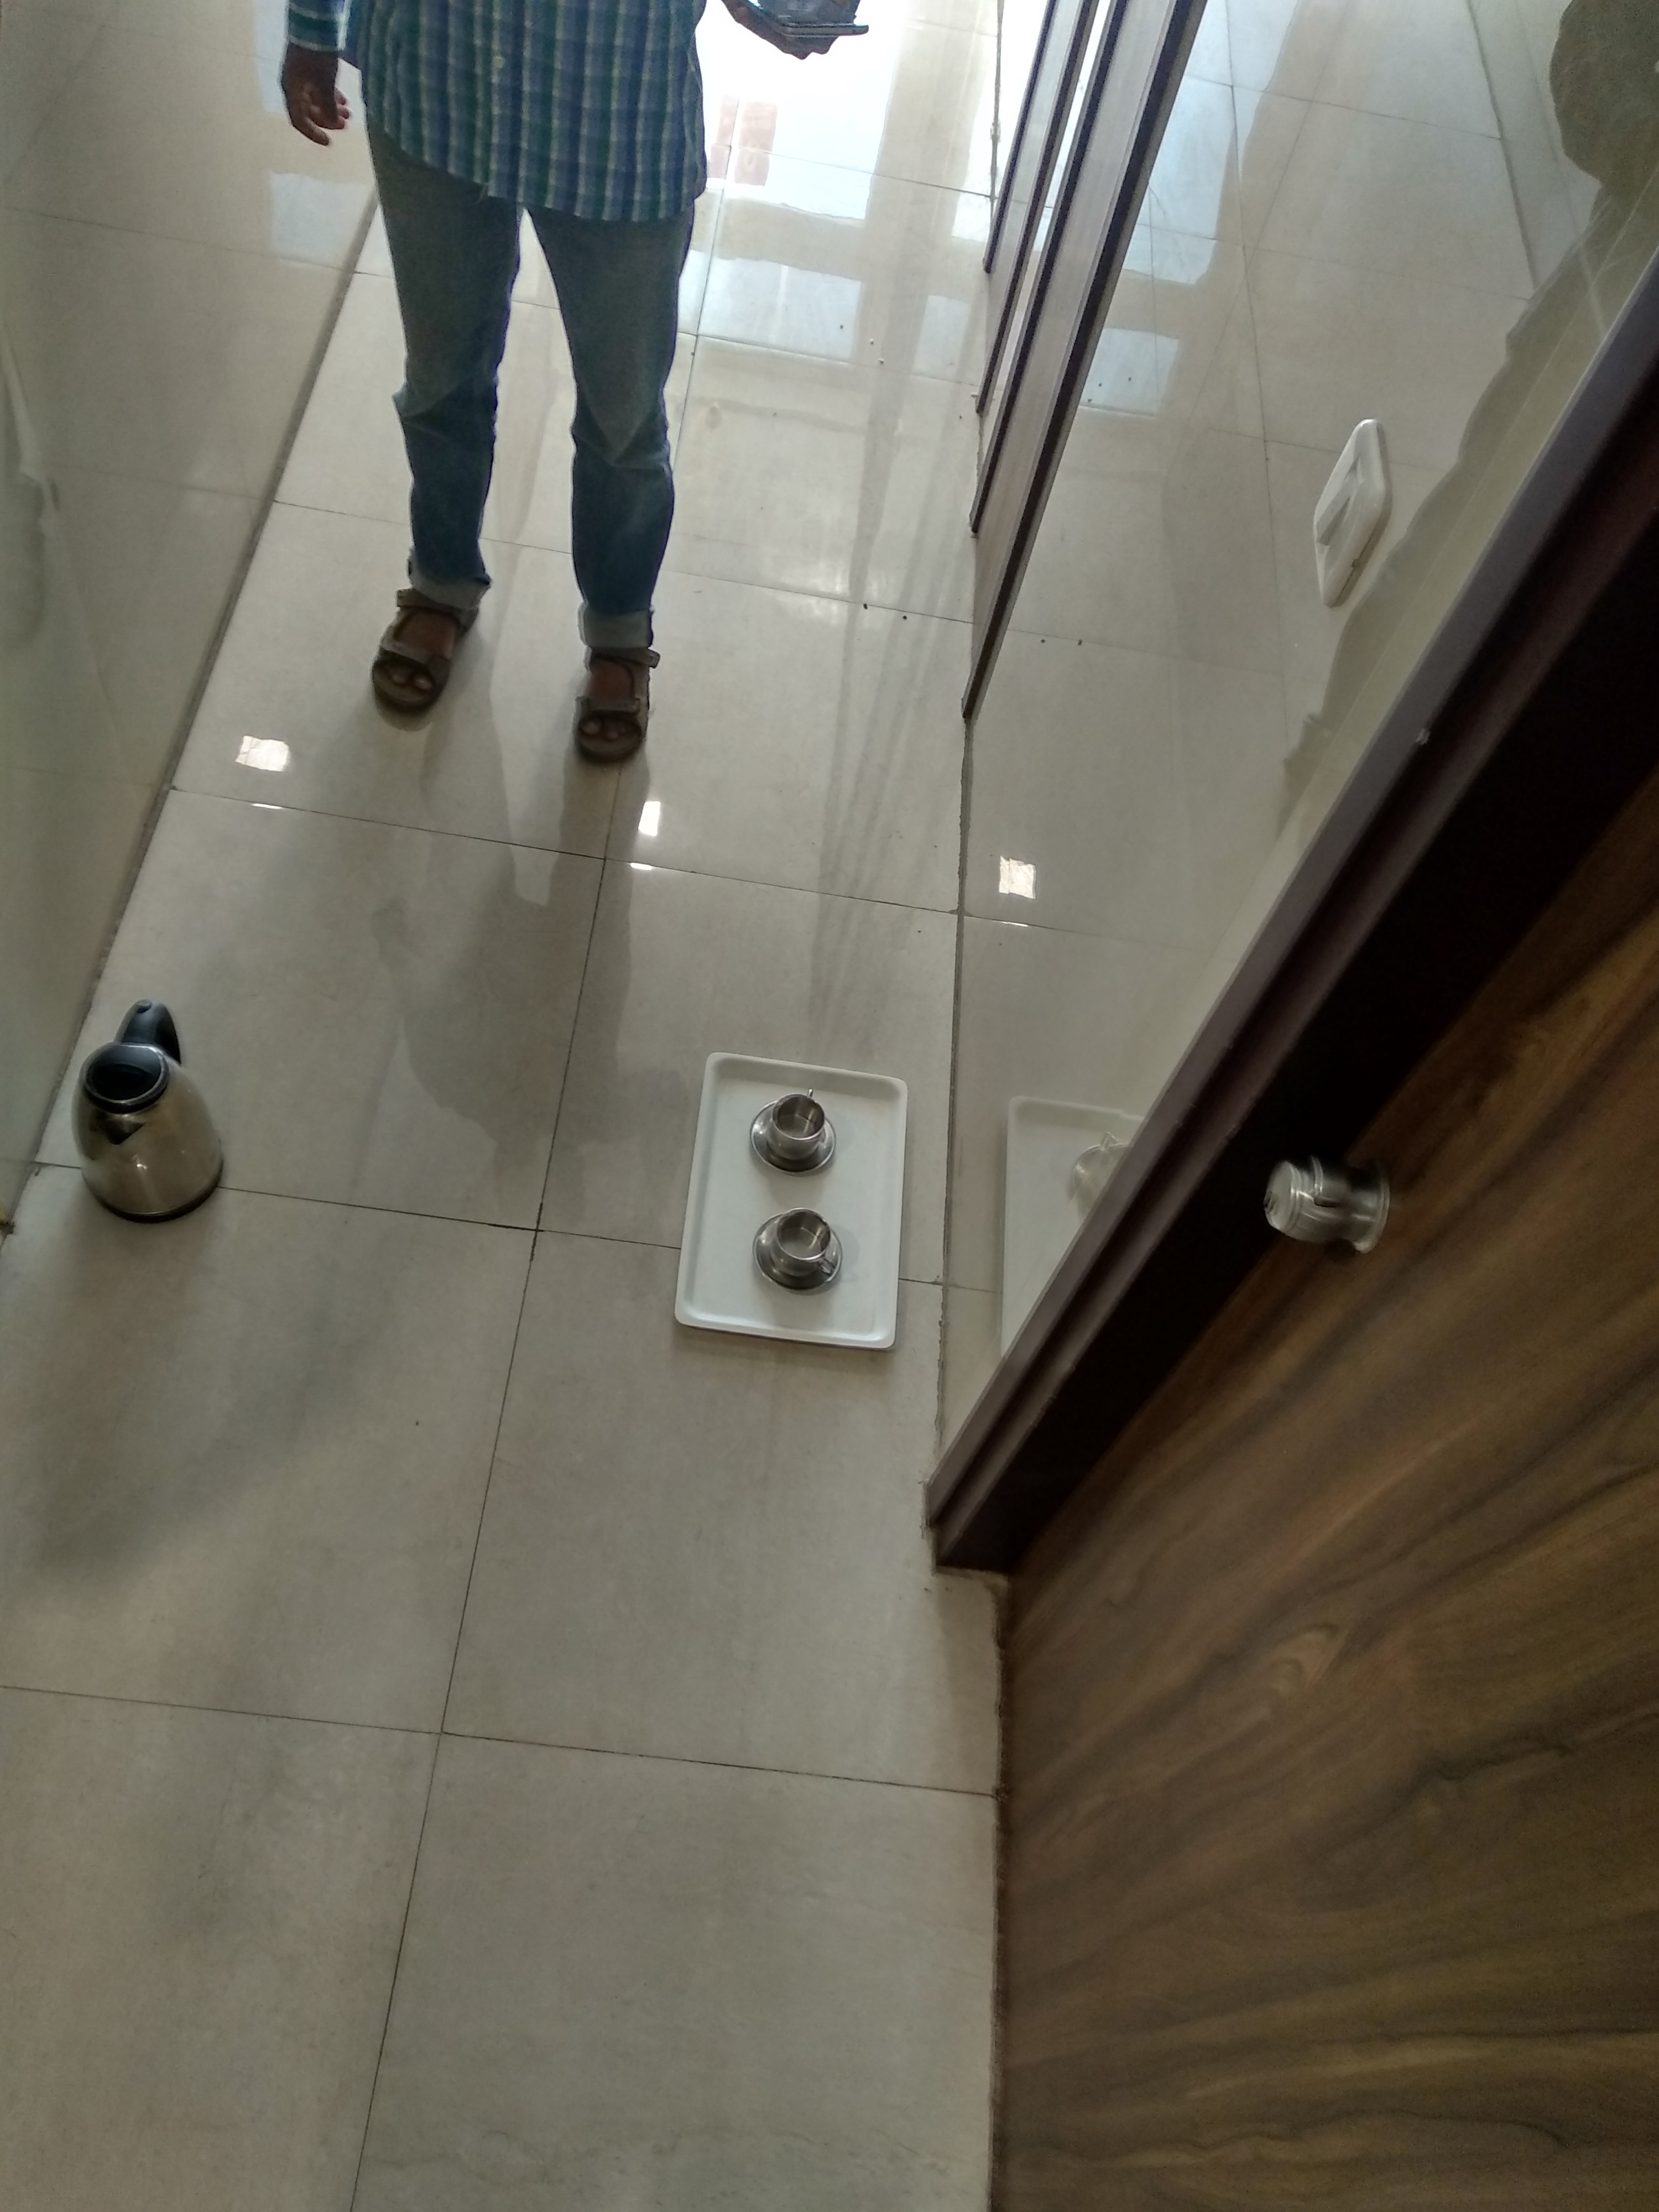CUP: (774, 1216, 845, 1280), (774, 1096, 826, 1151)
FLASK: (70, 1033, 232, 1231)
